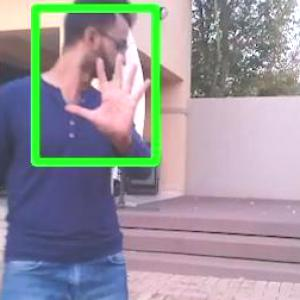follow_hand: (66, 46, 157, 140)
